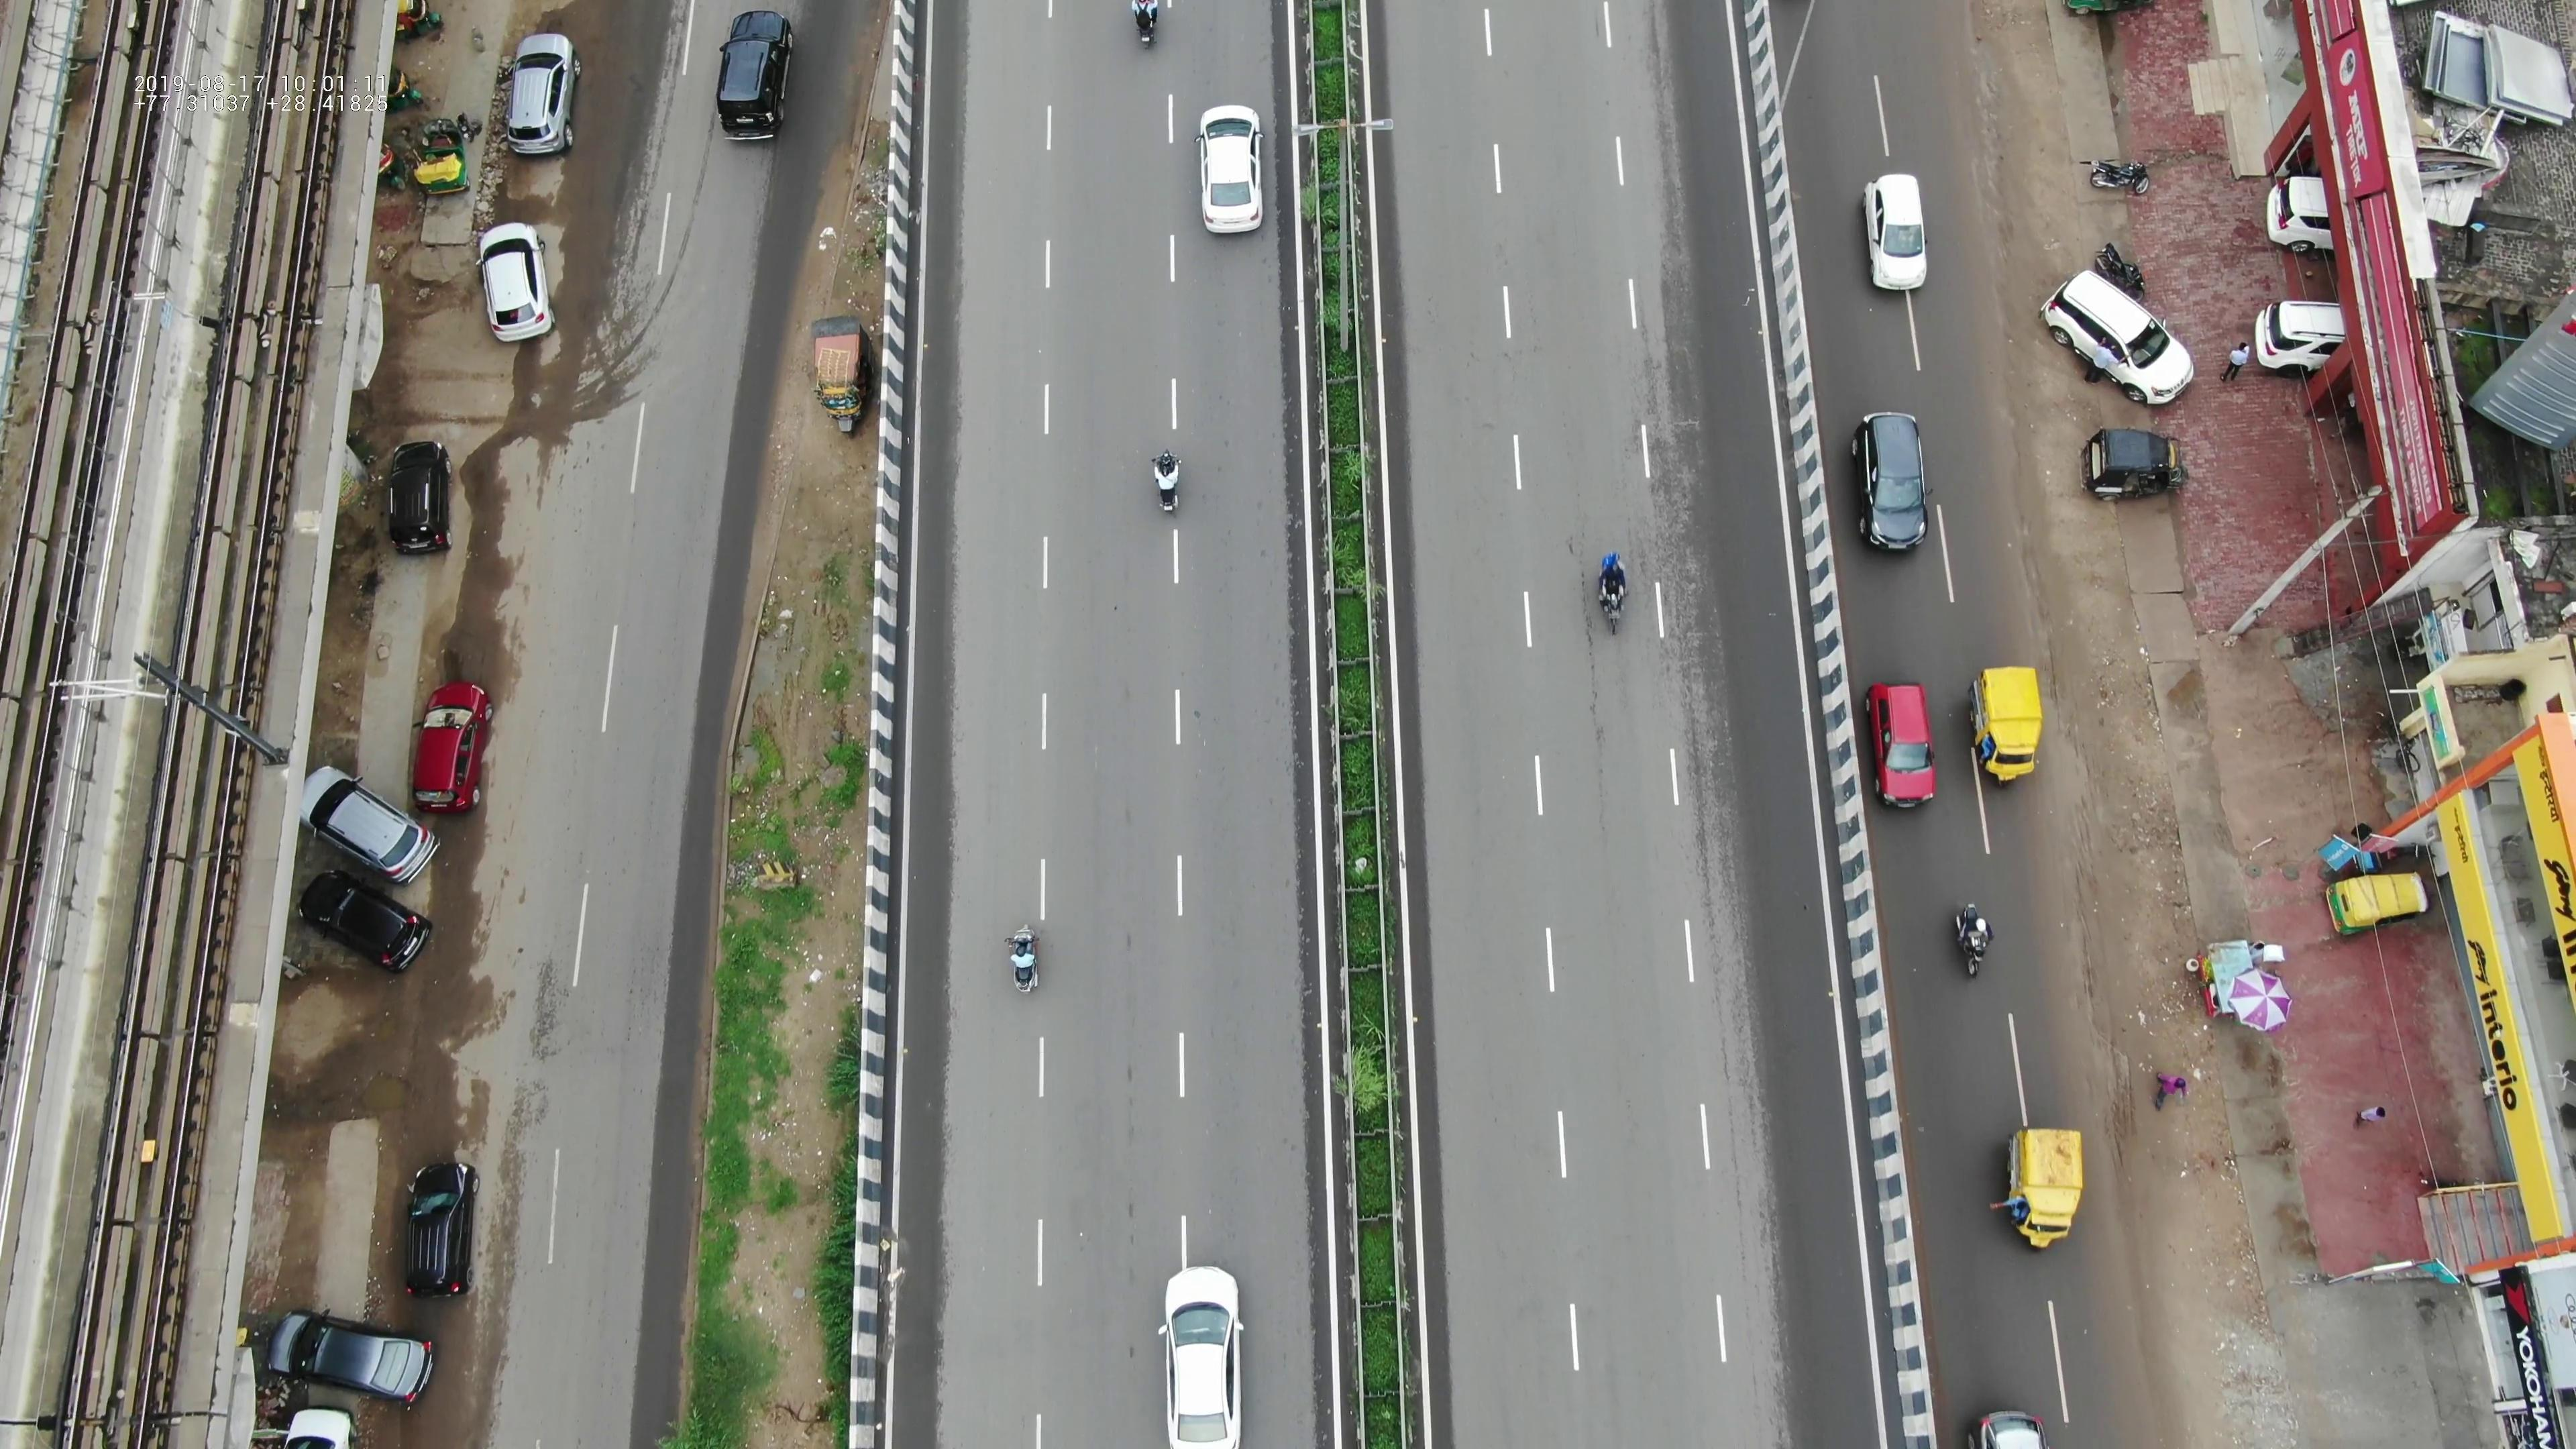Muddy_road: (2047, 784, 2206, 1127), (1985, 396, 2118, 672), (1955, 39, 2054, 242)
